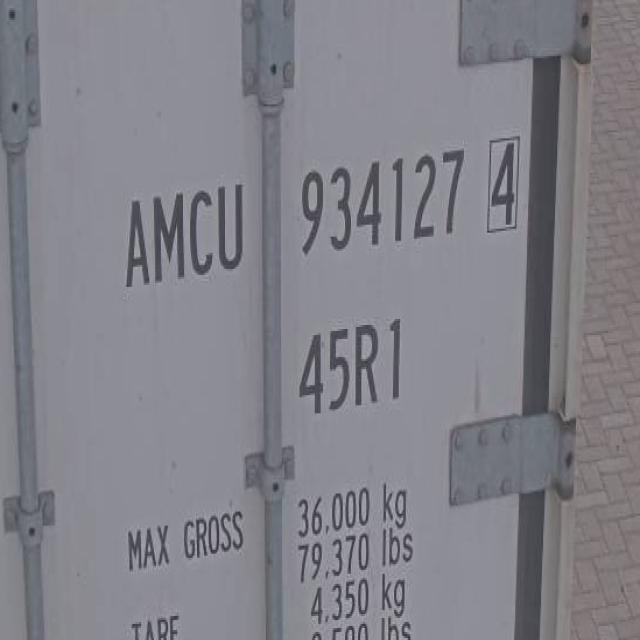dv: (482, 132, 526, 242)
owner: (123, 176, 248, 294)
serial: (294, 134, 468, 262)
size: (288, 310, 408, 425)
